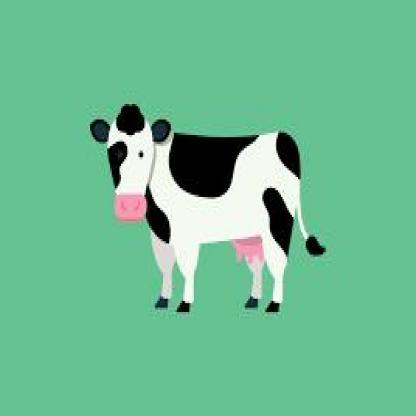cow: (90, 107, 323, 313)
